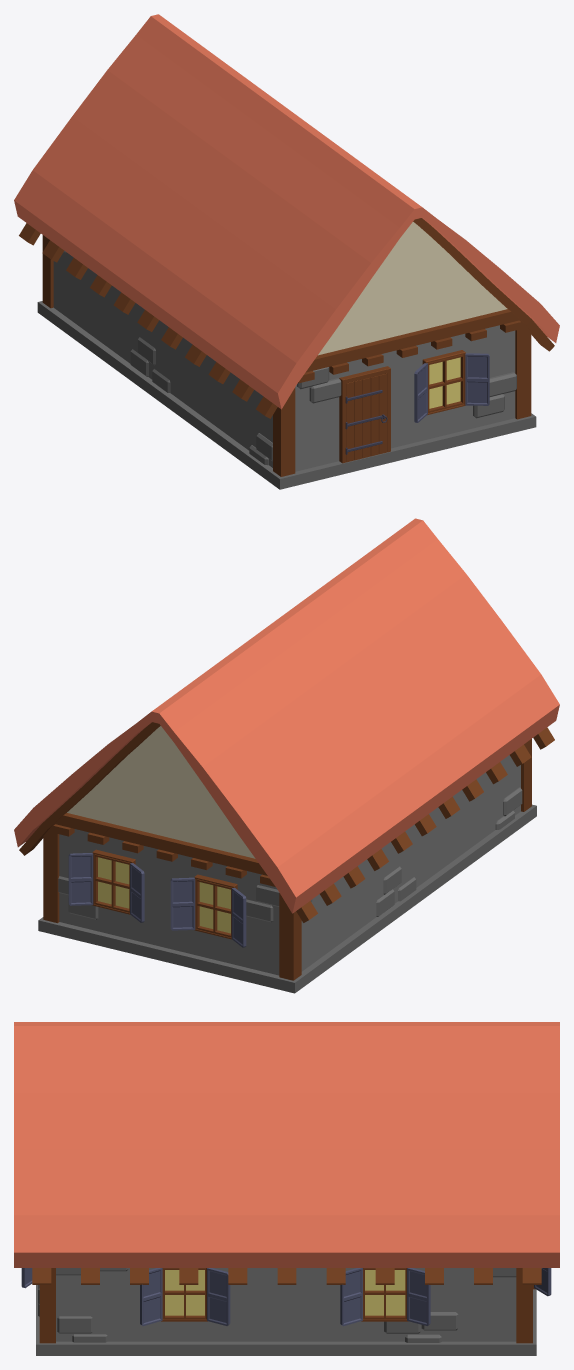
Rendered from House_City_04.fbx.
3 renders of one model, top to bottom at view 1: azimuth 30°, elevation 25°; view 2: azimuth 150°, elevation 25°; view 3: azimuth 270°, elevation 25°, orthographic. The views are drawn at different scales.
Visible parts, largest first — view 1: Roof_Short_Flat.002, Floor_0.004, Door_Rectangle.005, Window_4x4.010; view 2: Roof_Short_Flat.002, Floor_0.004, Window_4x4.011, Window_4x4.012; view 3: Roof_Short_Flat.002, Floor_0.004, Window_4x4.016, Window_4x4.015.
Boxes of the visible parts, <box> form: Roof_Short_Flat.002: <box>14,14,559,418</box>; Floor_0.004: <box>37,235,536,489</box>; Door_Rectangle.005: <box>339,366,390,463</box>; Window_4x4.010: <box>414,350,489,422</box>; Roof_Short_Flat.002: <box>14,518,559,922</box>; Floor_0.004: <box>38,739,536,993</box>; Window_4x4.011: <box>68,849,144,922</box>; Window_4x4.012: <box>170,874,246,947</box>; Roof_Short_Flat.002: <box>14,1022,559,1284</box>; Floor_0.004: <box>36,1268,536,1355</box>; Window_4x4.016: <box>340,1268,430,1326</box>; Window_4x4.015: <box>140,1268,230,1326</box>.
Size of the model in its own units: 713 by 607 by 1123.
